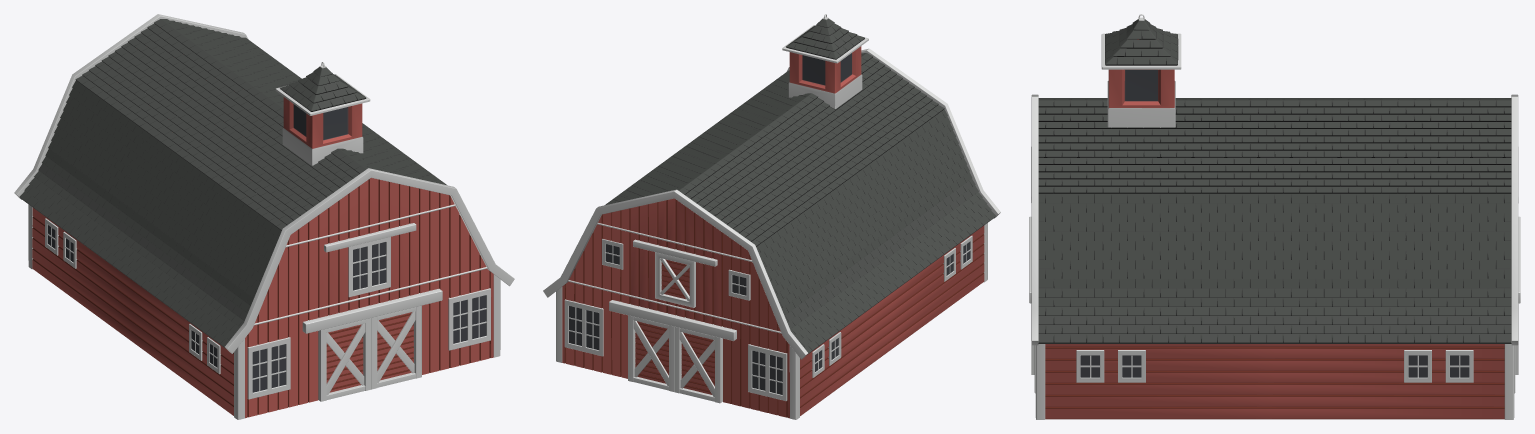
Rendered from Barn.fbx.
3 views of the same model, side by side, from view 1: azimuth 30°, elevation 25°; view 2: azimuth 150°, elevation 25°; view 3: azimuth 270°, elevation 25° (orthographic). The views are drawn at different scales.
Parts seen in each view (by area): view 1: node_id141; view 2: node_id141; view 3: node_id141.
Part boxes in pixels (left/top/right/bottom): node_id141: left=14, top=14, right=514, bottom=419; node_id141: left=543, top=14, right=1000, bottom=419; node_id141: left=1029, top=14, right=1520, bottom=419.
Size of the model in its own units: 0.512 by 0.4975 by 0.6659.
Materials: 1 (1 with a texture image).
